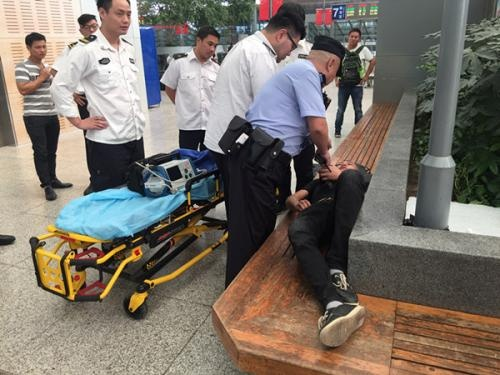falling: (277, 149, 382, 347)
